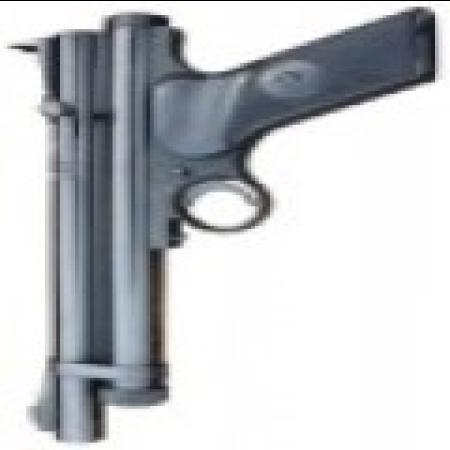Pistol: (7, 3, 432, 441)
